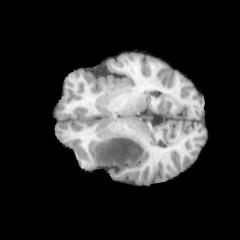glioma: (93, 136, 143, 168)
